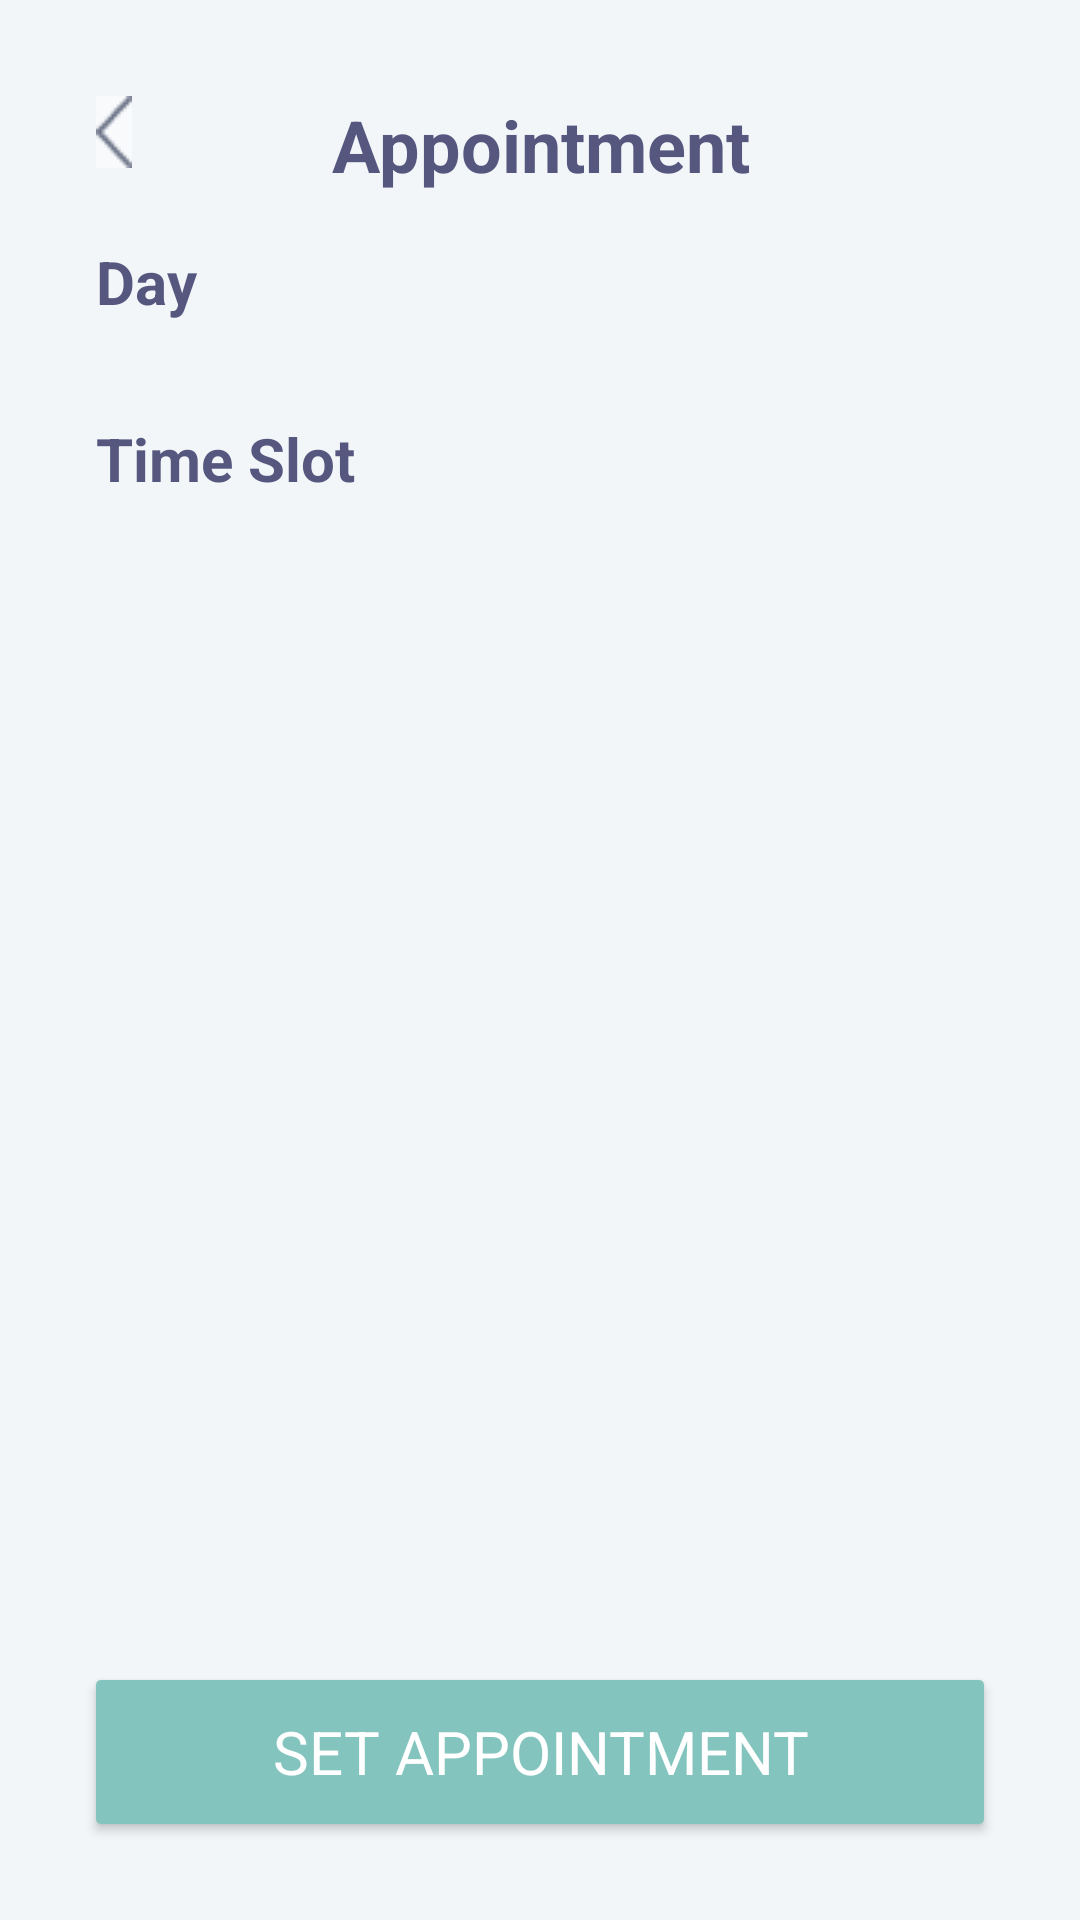

Where icons sit on this 1080 x 1920 app screen, as (x1, y1, x2, y2):
arrow back: (96, 96, 132, 168)
